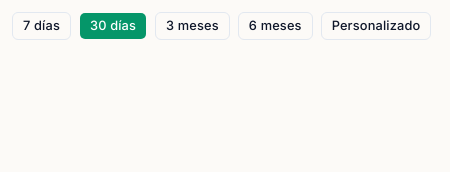
DateRangeFilter › validates custom range: from must be before to
# Switch to custom mode
Click the button "Personalizado".
click(376, 26)  # box [321,12,431,40]
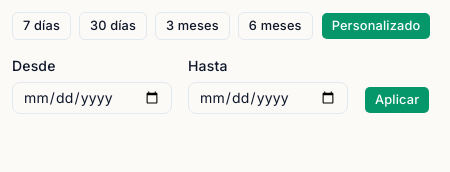
# Set from AFTER to
Type "2026-01-31" into the date field labelled "Desde".
click(92, 98); type("2026-01-31")  # box [12,82,172,114]
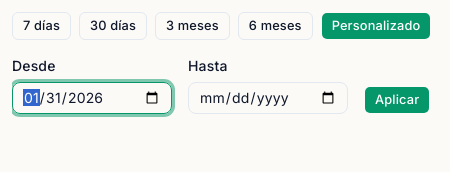
Type "2026-01-01" into the date field labelled "Hasta".
click(268, 98); type("2026-01-01")  # box [188,82,348,114]
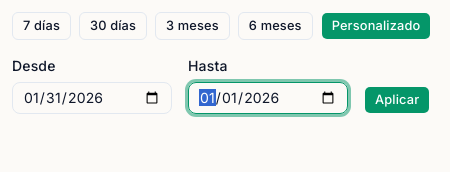
# Submit the custom range
Click the button "Aplicar".
click(397, 100)  # box [364,86,430,114]
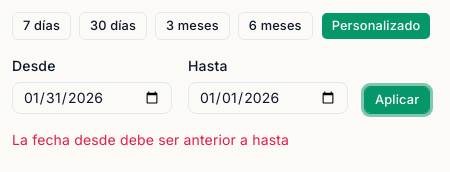
expect the text "La fecha desde debe ser anterior a hasta" is shown: met, box [12,131,289,148]
